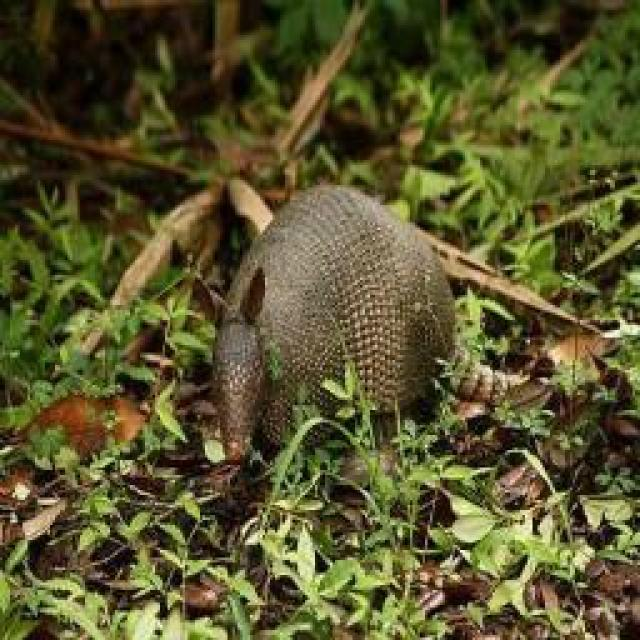not_pig: (203, 177, 465, 465)
